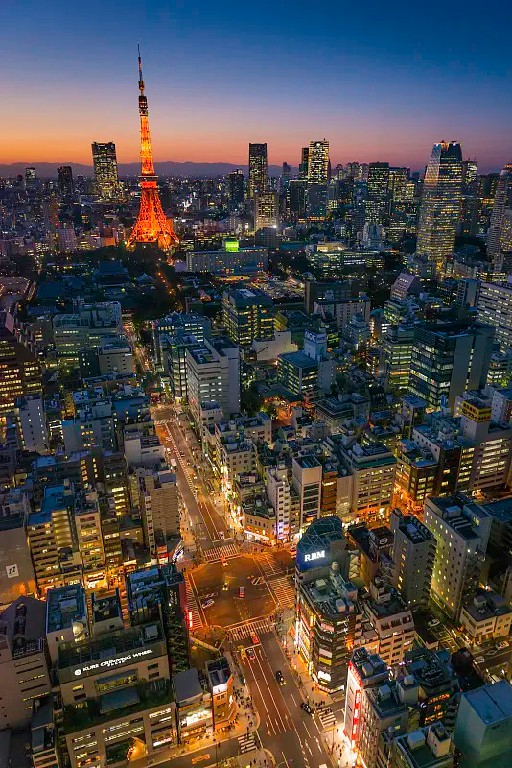Tokyo: (116, 37, 185, 245)
